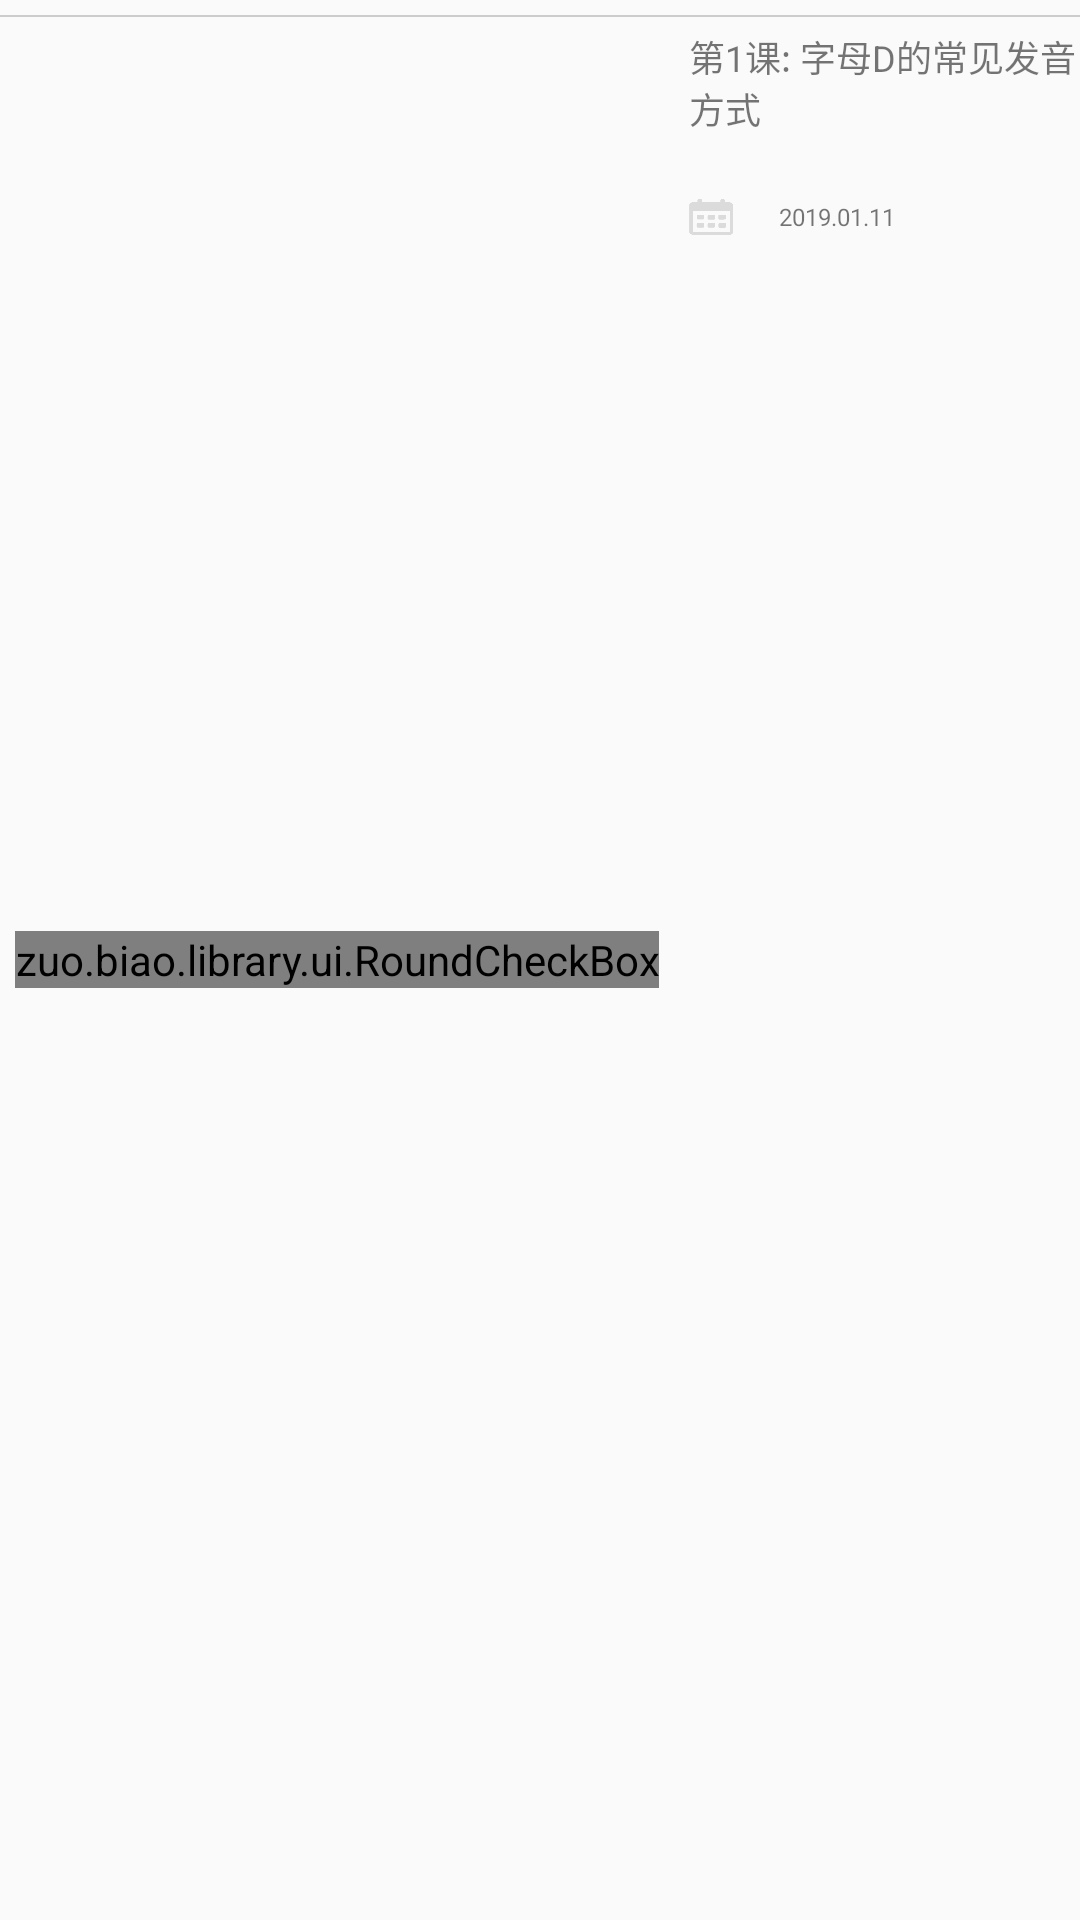

Screen size 1080 × 1920. Icon name, then its center in pixels as (x,y):
calendar: (711,217)
